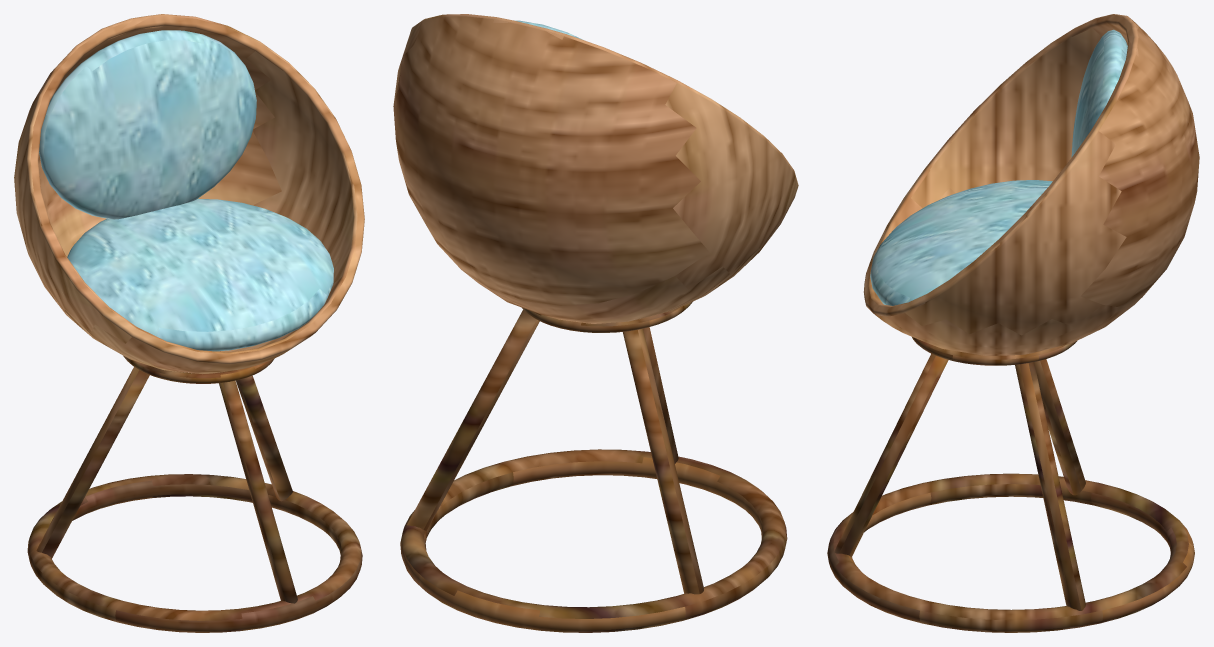
Rendered from coconchair.d2eb3773.glb.
The picture shows the model from 3 angles, left to right: view 1: azimuth 30°, elevation 25°; view 2: azimuth 150°, elevation 25°; view 3: azimuth 270°, elevation 25°; orthographic projection. The views are drawn at different scales.
Visible parts, largest first — view 1: coconchair1; view 2: coconchair1; view 3: coconchair1.
Boxes of the visible parts, x1,y1,x2,y2 form: coconchair1: [14, 14, 364, 632]; coconchair1: [393, 14, 798, 632]; coconchair1: [827, 14, 1199, 632].
Size of the model in its own units: 0.1095 by 0.1687 by 0.1084.
3 materials, 3 textured.
